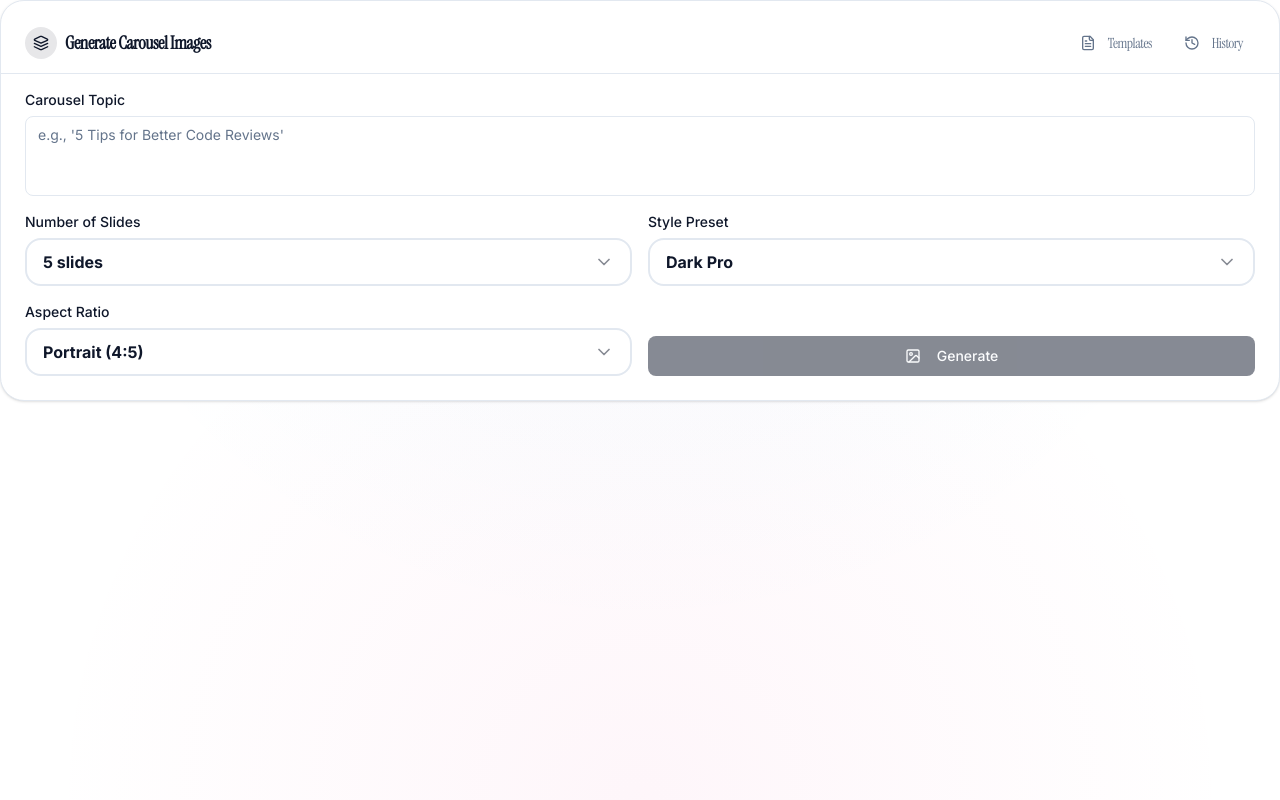
Test: CarouselGenerator › Template Library UI › should close templates panel when clicked again
Click the button "Templates". click: (1116, 43)
box: [1068,25,1164,61]
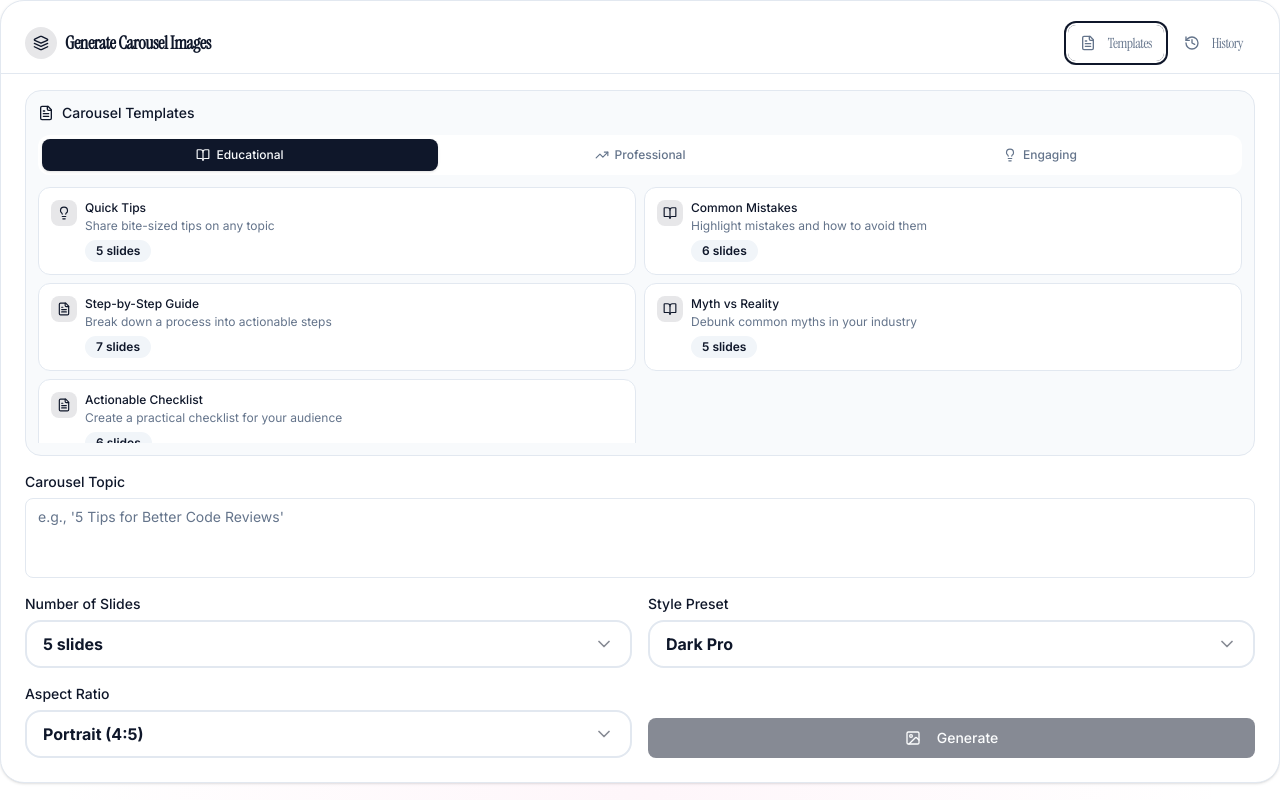
Check: the text "Carousel Templates" is shown, box [62,103,194,123]
Click the button "Templates". click: (1116, 43)
box: [1068,25,1164,61]
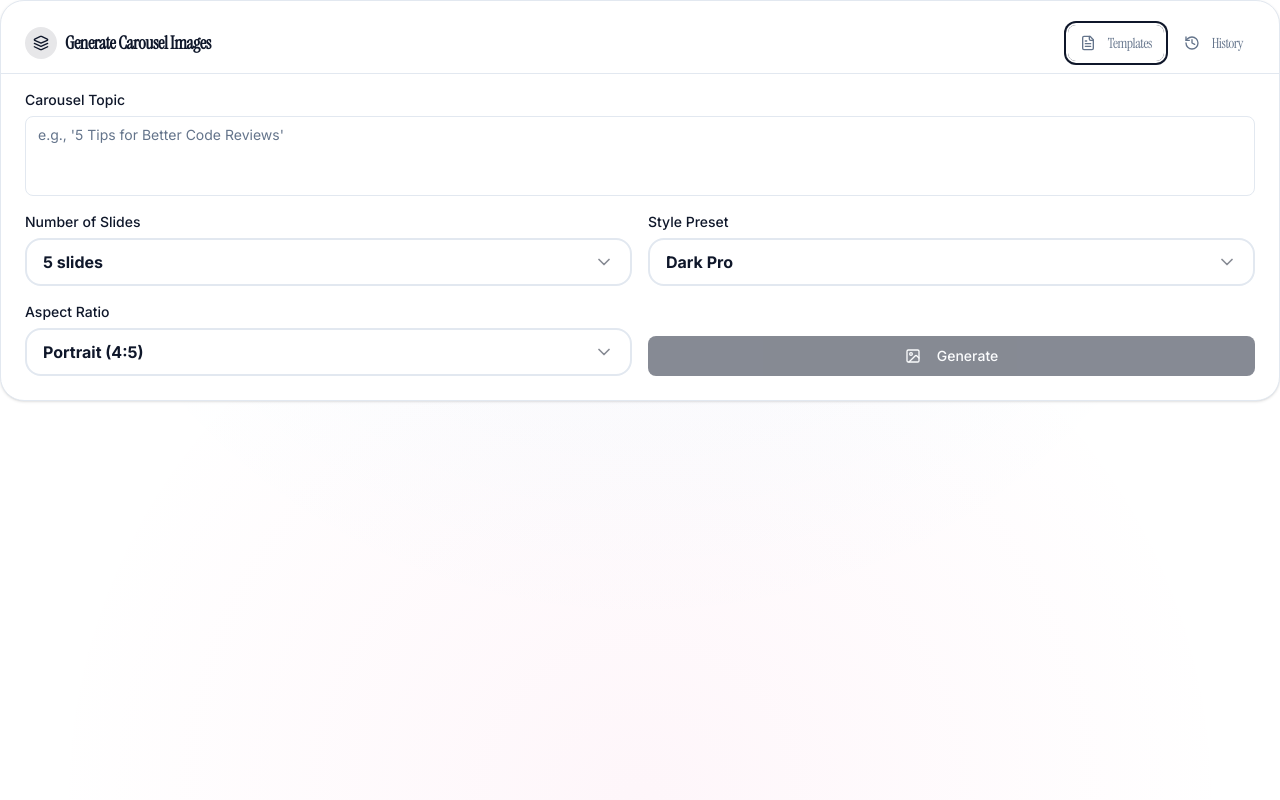
Check: the text "Carousel Templates" is gone
